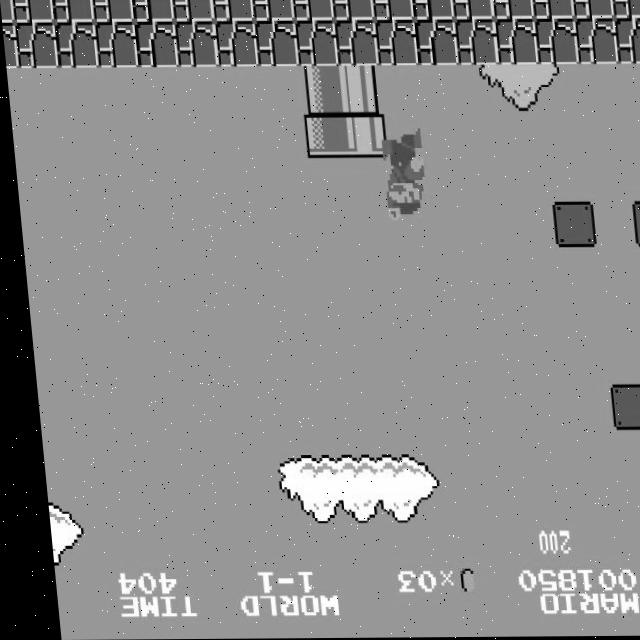0- big_mario: (377, 129, 428, 223)
14- pipe: (337, 66, 382, 113), (297, 67, 342, 113)
15- pipe_head: (341, 112, 385, 158), (301, 112, 345, 158)
17- undestructible_block: (494, 19, 538, 66), (334, 20, 378, 67), (134, 21, 178, 68), (574, 19, 618, 65), (534, 19, 578, 65), (454, 20, 498, 66), (414, 20, 458, 66), (374, 20, 418, 66), (294, 21, 338, 67), (254, 21, 298, 67), (214, 21, 258, 67), (174, 21, 218, 67), (94, 22, 138, 68), (54, 22, 98, 68), (14, 22, 58, 68), (614, 19, 640, 65), (52, 0, 95, 23), (12, 0, 55, 23), (252, 0, 295, 22), (212, 0, 255, 22), (172, 0, 215, 22), (132, 0, 175, 22), (92, 0, 135, 22), (412, 0, 455, 21), (372, 0, 415, 21), (332, 0, 375, 21), (292, 0, 335, 21), (572, 0, 615, 20), (532, 0, 575, 20), (492, 0, 535, 20), (452, 0, 495, 20), (2, 22, 18, 68), (612, 0, 640, 19), (0, 0, 15, 23)
3- empty_block: (548, 202, 592, 248), (601, 385, 640, 431), (628, 202, 640, 248)
